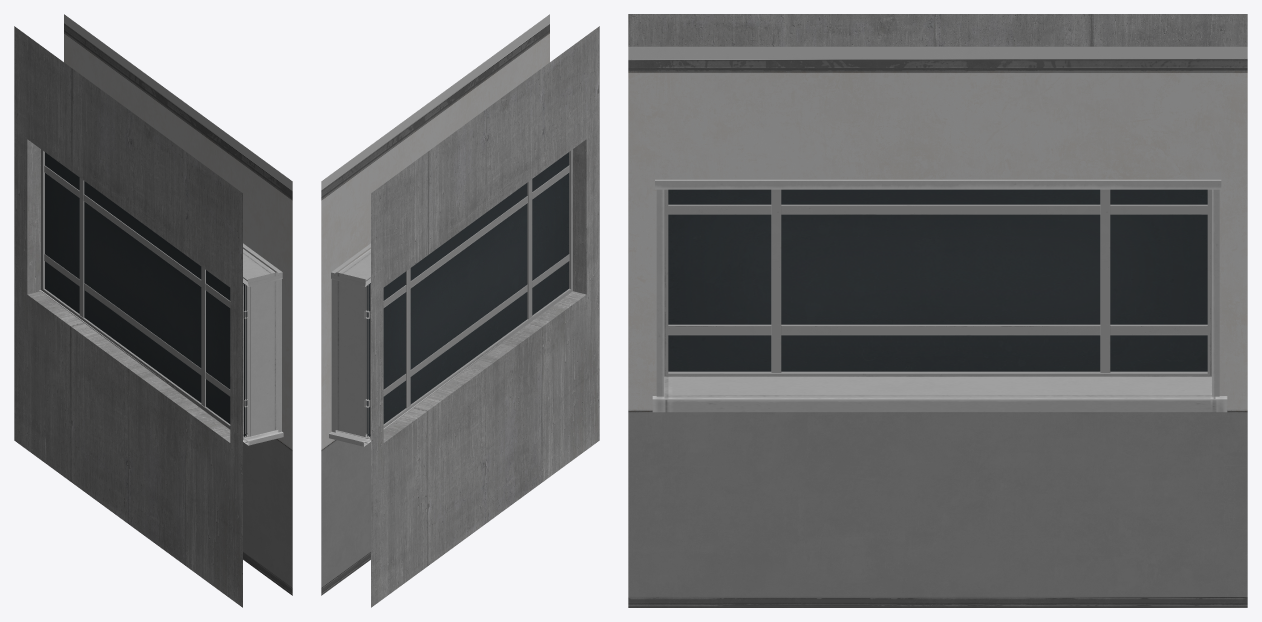
File: HH_Hospital_InteriorShowcase_4m_01.fbx
The picture shows the model from 3 angles, left to right: view 1: azimuth 30°, elevation 25°; view 2: azimuth 150°, elevation 25°; view 3: azimuth 270°, elevation 25°; orthographic projection. The views are drawn at different scales.
Visible parts, largest first — view 1: HH_Hospital_InteriorShowcase_4m_01_LOD0; view 2: HH_Hospital_InteriorShowcase_4m_01_LOD0; view 3: HH_Hospital_InteriorShowcase_4m_01_LOD0.
Boxes of the visible parts, x1,y1,x2,y2 form: HH_Hospital_InteriorShowcase_4m_01_LOD0: (14,14,292,607); HH_Hospital_InteriorShowcase_4m_01_LOD0: (321,14,599,607); HH_Hospital_InteriorShowcase_4m_01_LOD0: (628,14,1247,607).
Size of what is drawn, in the model's own units: 55.34 by 400 by 400.
